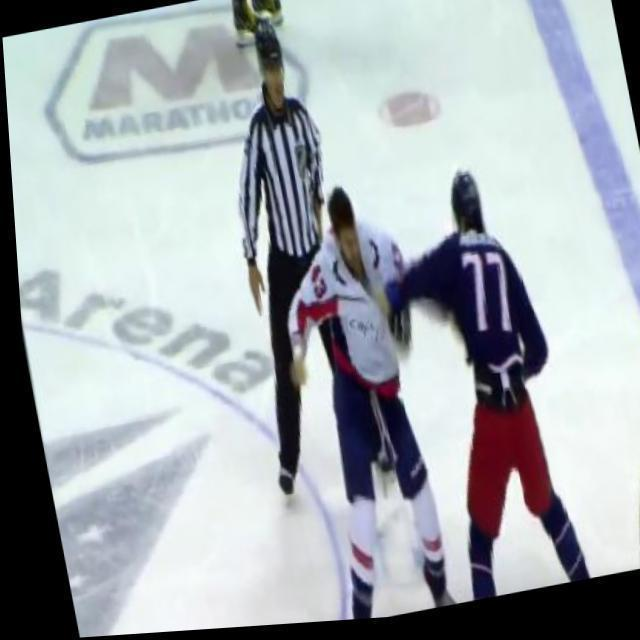fight: (244, 148, 594, 628)
